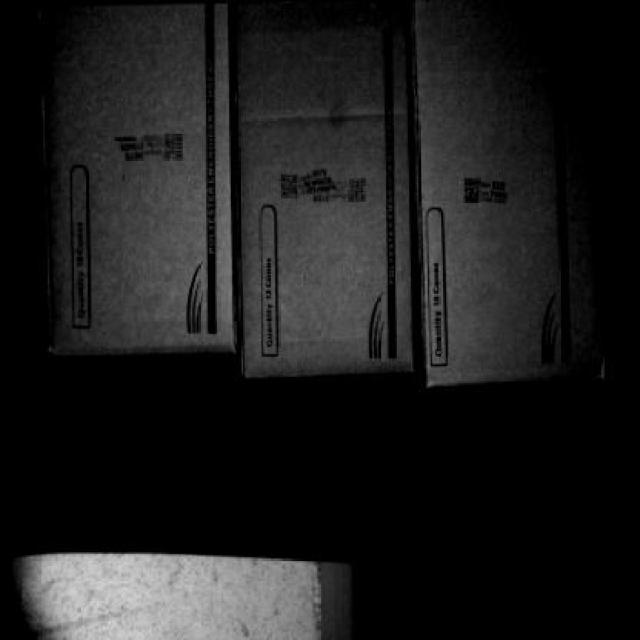cardboxes: (418, 3, 602, 383), (41, 6, 238, 352), (240, 5, 418, 369)
